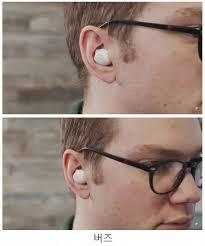earphone: (90, 45, 111, 73), (70, 167, 93, 186)
